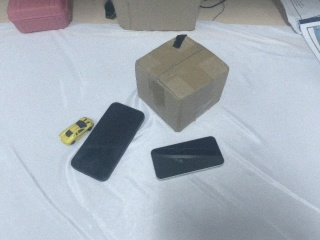box: (134, 33, 229, 132), (105, 1, 202, 34)
phone: (68, 101, 145, 183), (151, 136, 225, 181)
toy_car: (59, 117, 94, 146)
